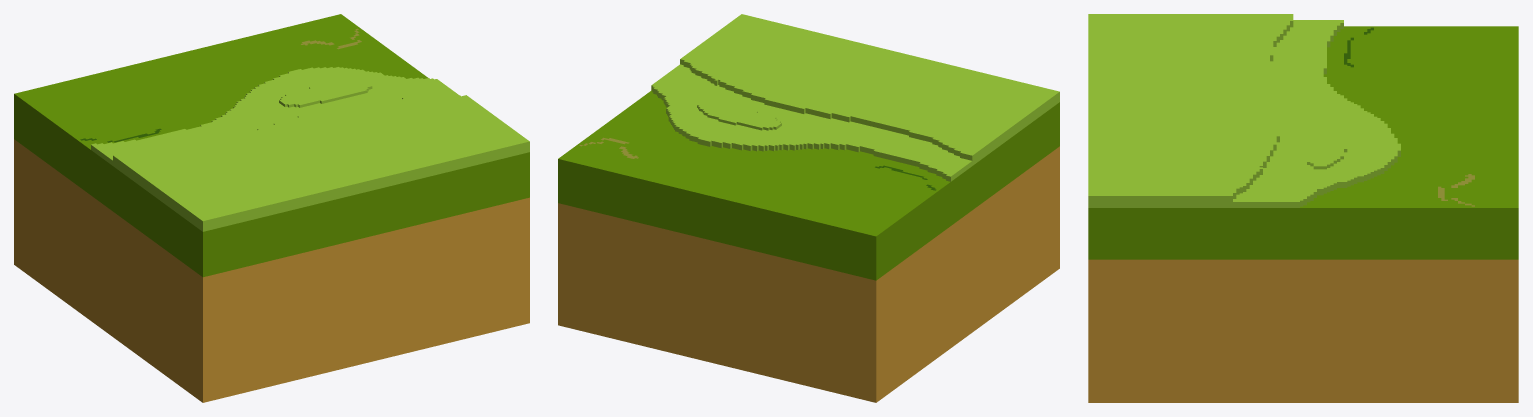
3 renders of one model, left to right at view 1: azimuth 30°, elevation 25°; view 2: azimuth 150°, elevation 25°; view 3: azimuth 270°, elevation 25°, orthographic. The views are drawn at different scales.
Visible parts, largest first — view 1: 9N; view 2: 9N; view 3: 9N.
Boxes of the visible parts, left/top/right/bottom form: 9N: left=14, top=14, right=529, bottom=402; 9N: left=558, top=14, right=1059, bottom=402; 9N: left=1088, top=14, right=1518, bottom=402.
Bounding box in the file's own units: 12.8 × 6.8 × 12.8.
Materials: 1 (1 with a texture image).
